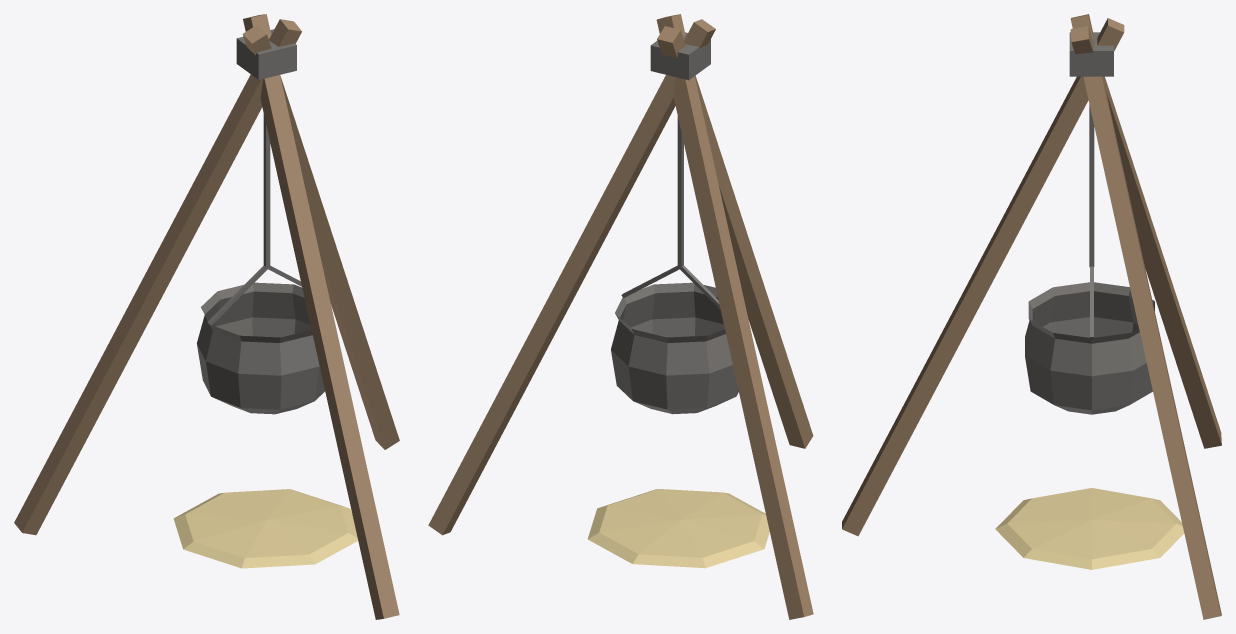
File: prop-cookpot-hang.fbx
3 renders of one model, left to right at view 1: azimuth 30°, elevation 25°; view 2: azimuth 150°, elevation 25°; view 3: azimuth 270°, elevation 25°, orthographic.
Visible parts, largest first — view 1: prop-cookpot-hang; view 2: prop-cookpot-hang; view 3: prop-cookpot-hang.
Part boxes in pixels (x1,y1,x2,y2): prop-cookpot-hang: [14, 14, 399, 619]; prop-cookpot-hang: [428, 14, 813, 619]; prop-cookpot-hang: [842, 14, 1221, 619].
Bounding box in the file's own units: 1.08 × 1.41 × 0.9432.
